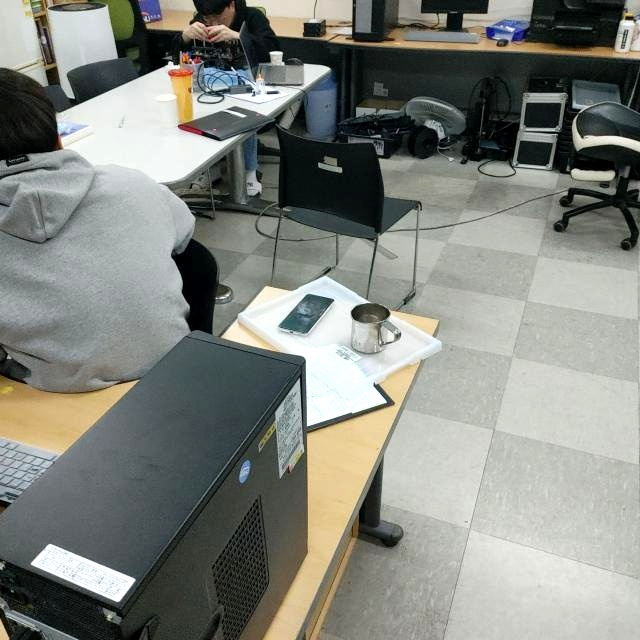cup: (347, 300, 400, 357)
phone: (276, 292, 336, 338)
